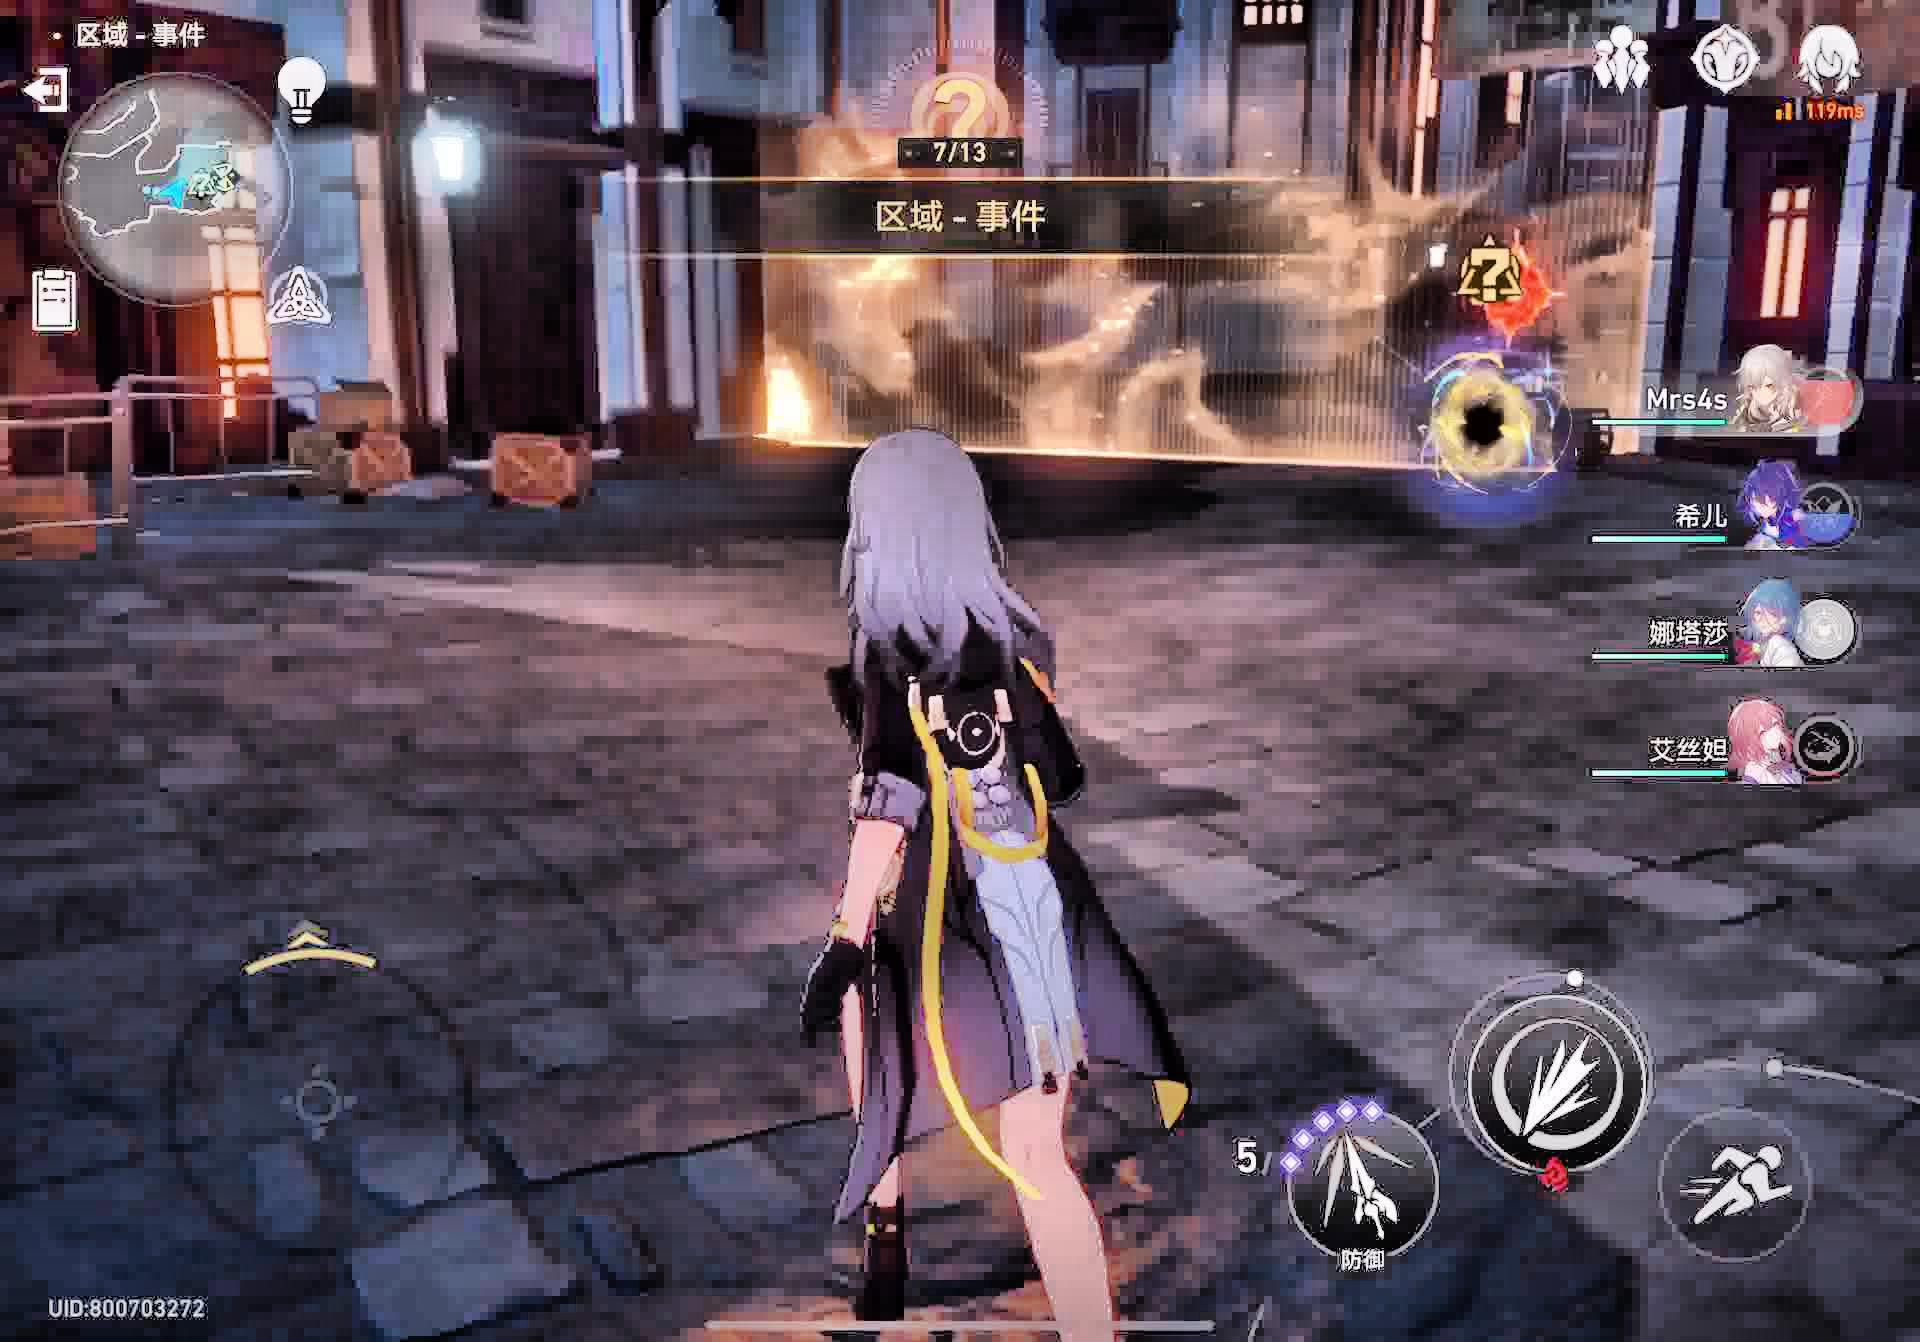BattleDoor: (1455, 230, 1565, 343)
EventStar: (1414, 354, 1552, 509)
Self: (805, 430, 1189, 1332)
